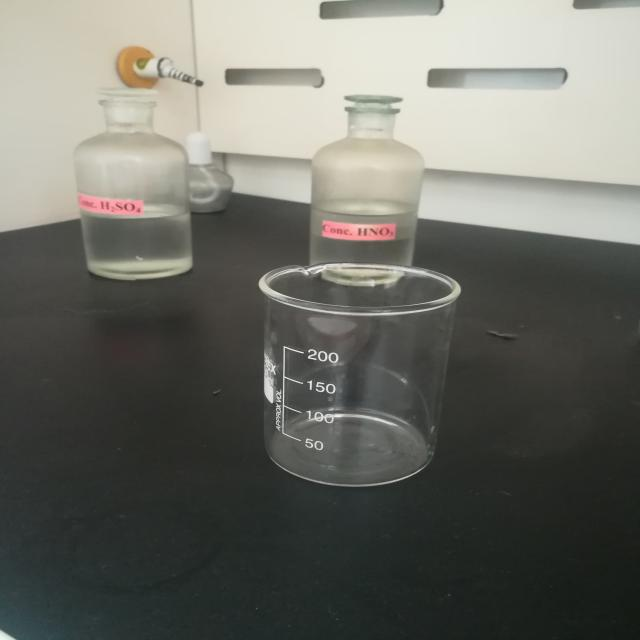Beaker: (239, 240, 488, 504)
Reagent_Bottle: (33, 66, 220, 290), (282, 80, 454, 276)
